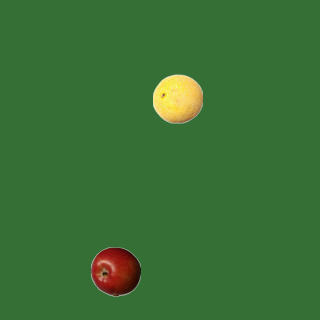Apple Braeburn: (90, 246, 140, 296)
Cantaloupe 1: (152, 73, 202, 123)
